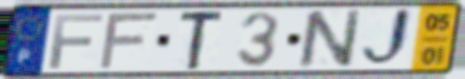3: (236, 10, 281, 70)
F: (95, 10, 162, 72), (47, 12, 107, 71)
J: (359, 6, 415, 71)
N: (296, 8, 364, 71)
T: (177, 8, 228, 72)
